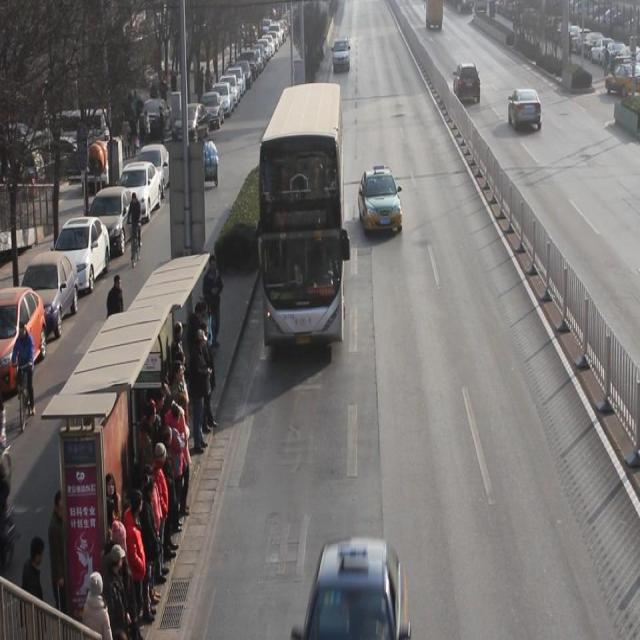car: (302, 537, 408, 640), (359, 170, 402, 237), (508, 90, 541, 133), (452, 64, 481, 105)
van: (255, 82, 340, 346)
